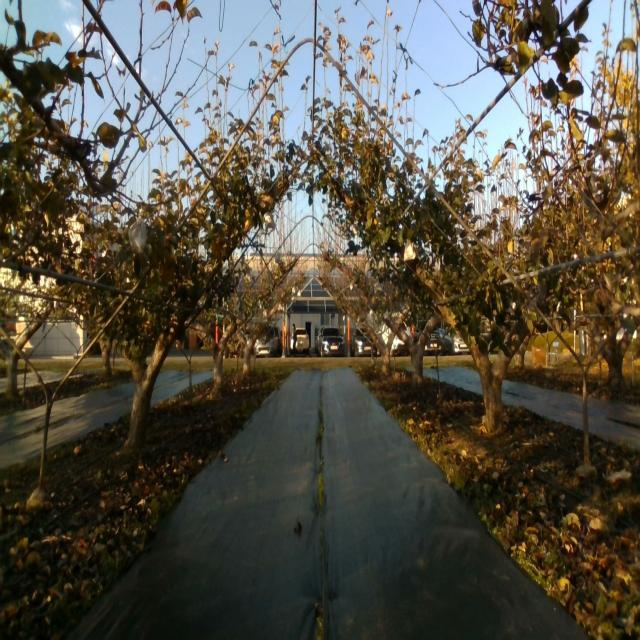pearbags: (128, 218, 147, 255), (403, 240, 416, 262), (262, 212, 276, 230)
